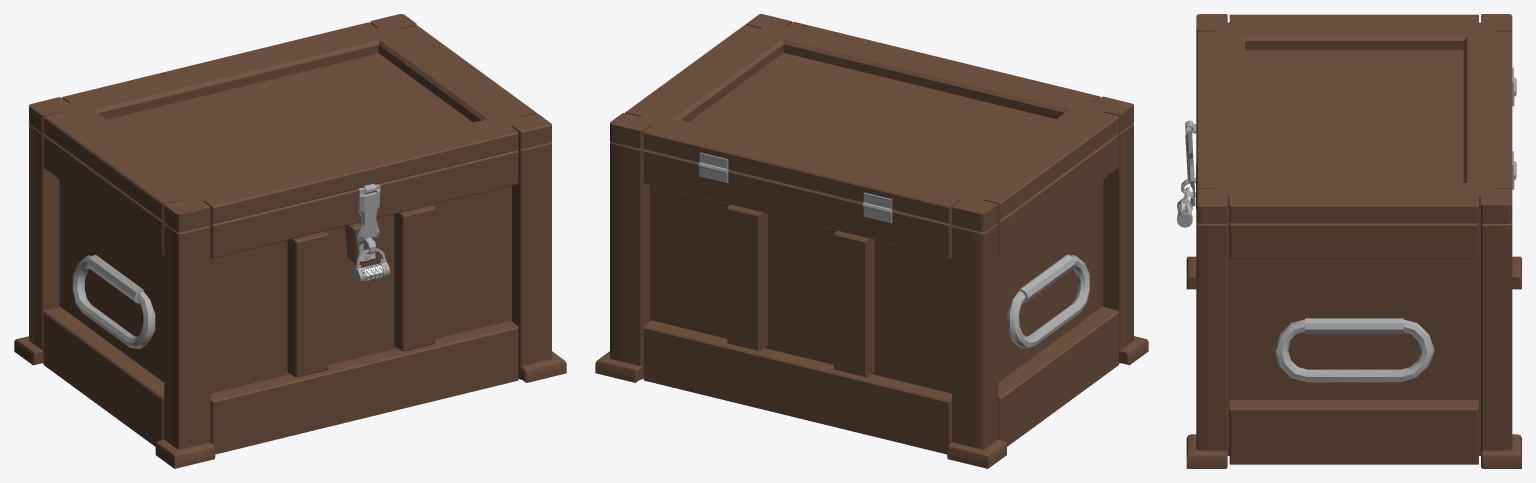
The model's file is sunduk.fbx.
The picture shows the model from 3 angles, left to right: view 1: azimuth 30°, elevation 25°; view 2: azimuth 150°, elevation 25°; view 3: azimuth 270°, elevation 25°; orthographic projection. The views are drawn at different scales.
Visible parts, largest first — view 1: sunduk, krishka, podzamochka; view 2: sunduk, krishka; view 3: sunduk, krishka, podzamochka, zamok.
Part boxes in pixels (x1,y1,x2,y2): sunduk: (14, 124, 566, 468); krishka: (29, 14, 551, 232); podzamochka: (356, 184, 380, 261); sunduk: (595, 124, 1148, 468); krishka: (610, 14, 1133, 232); sunduk: (1181, 77, 1521, 468); krishka: (1185, 14, 1513, 223); podzamochka: (1185, 120, 1195, 206); zamok: (1177, 187, 1192, 227).
Size of the model in its own units: 92.11 by 55.69 by 67.14.
